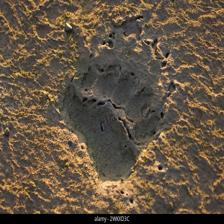bear: (57, 61, 169, 187)
